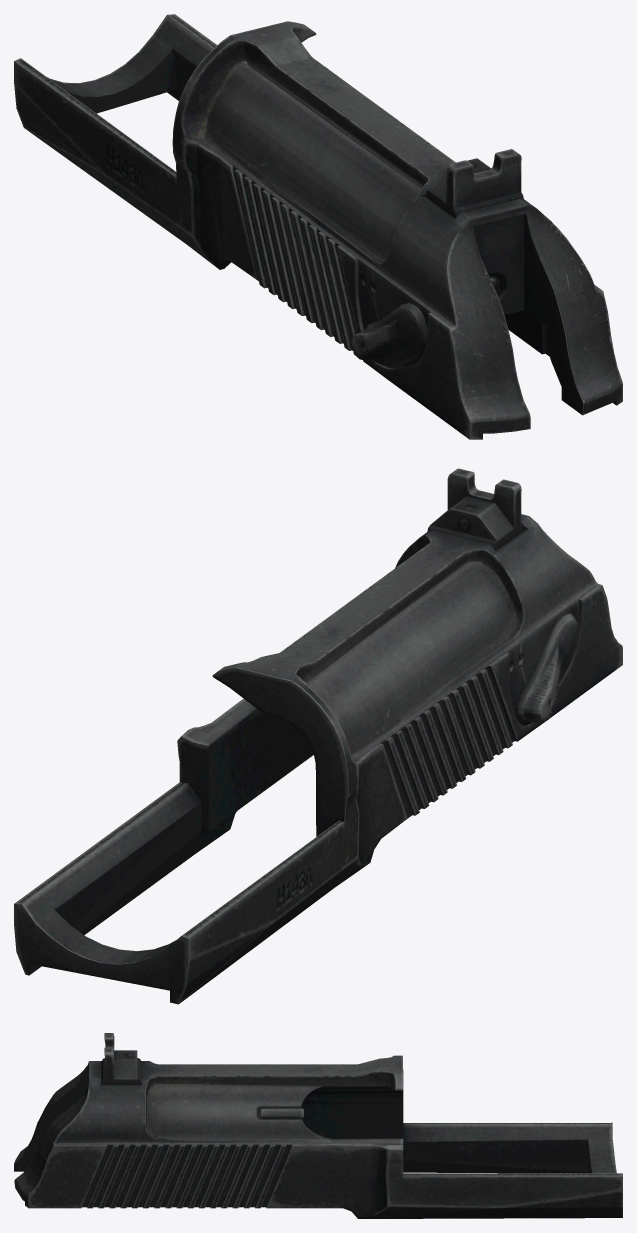
The picture shows the model from 3 angles, top to bottom: view 1: azimuth 30°, elevation 25°; view 2: azimuth 150°, elevation 25°; view 3: azimuth 270°, elevation 25°; orthographic projection. The views are drawn at different scales.
Parts seen in each view (by area): view 1: TW_56e0598dd2720bb5668b45a6_PZ_Import; view 2: TW_56e0598dd2720bb5668b45a6_PZ_Import; view 3: TW_56e0598dd2720bb5668b45a6_PZ_Import.
Boxes of the visible parts, x1=… form: TW_56e0598dd2720bb5668b45a6_PZ_Import: x1=14, y1=14, x2=622, y2=439; TW_56e0598dd2720bb5668b45a6_PZ_Import: x1=14, y1=468, x2=622, y2=1004; TW_56e0598dd2720bb5668b45a6_PZ_Import: x1=14, y1=1033, x2=622, y2=1218.
Bounding box in the file's own units: 0.0193 × 0.0854 × 0.0235.
Materials: 1 (1 with a texture image).
